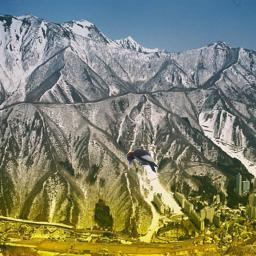Woodpecker: (125, 148, 159, 173)
